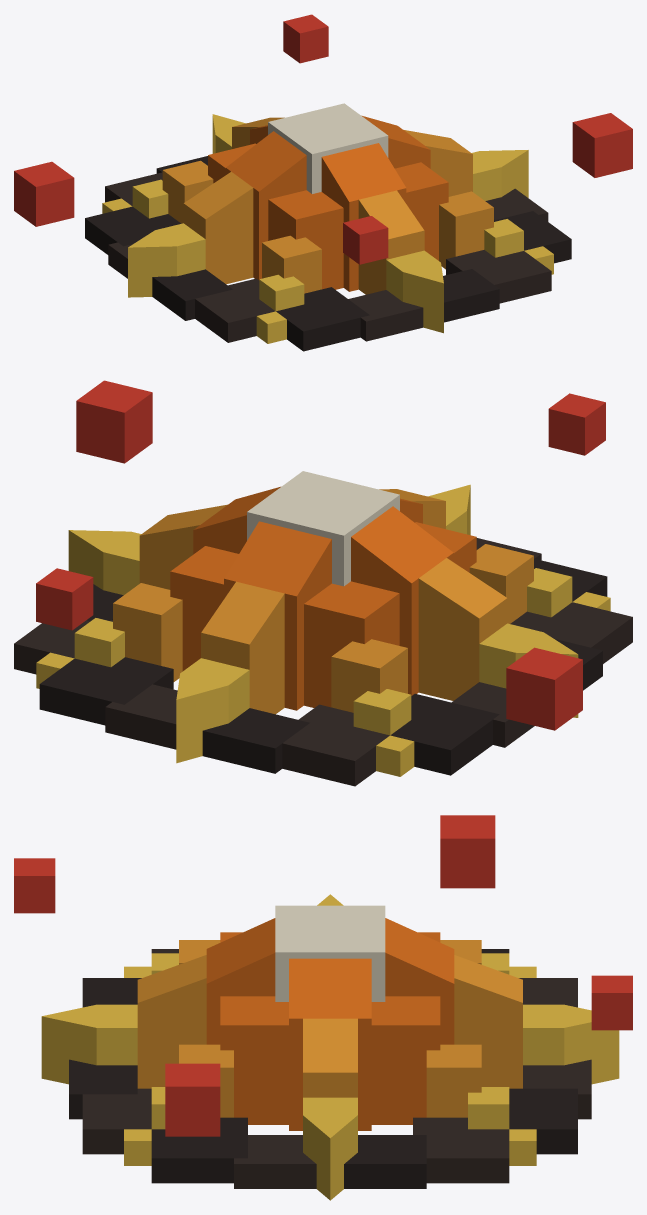
File: fx_blastarrows.glb
3 views of the same model, one above another, from view 1: azimuth 30°, elevation 25°; view 2: azimuth 150°, elevation 25°; view 3: azimuth 270°, elevation 25° (orthographic). The views are drawn at different scales.
Parts seen in each view (by area): view 1: blastarrows_AL_FX_04_BlastArrows_Mesh1; view 2: blastarrows_AL_FX_04_BlastArrows_Mesh1; view 3: blastarrows_AL_FX_04_BlastArrows_Mesh1.
Part boxes in pixels (x1,y1,x2,y2): blastarrows_AL_FX_04_BlastArrows_Mesh1: (14, 14, 632, 351); blastarrows_AL_FX_04_BlastArrows_Mesh1: (14, 380, 632, 786); blastarrows_AL_FX_04_BlastArrows_Mesh1: (14, 815, 632, 1200).
Bounding box in the file's own units: 6.38 × 1.62 × 5.62.
